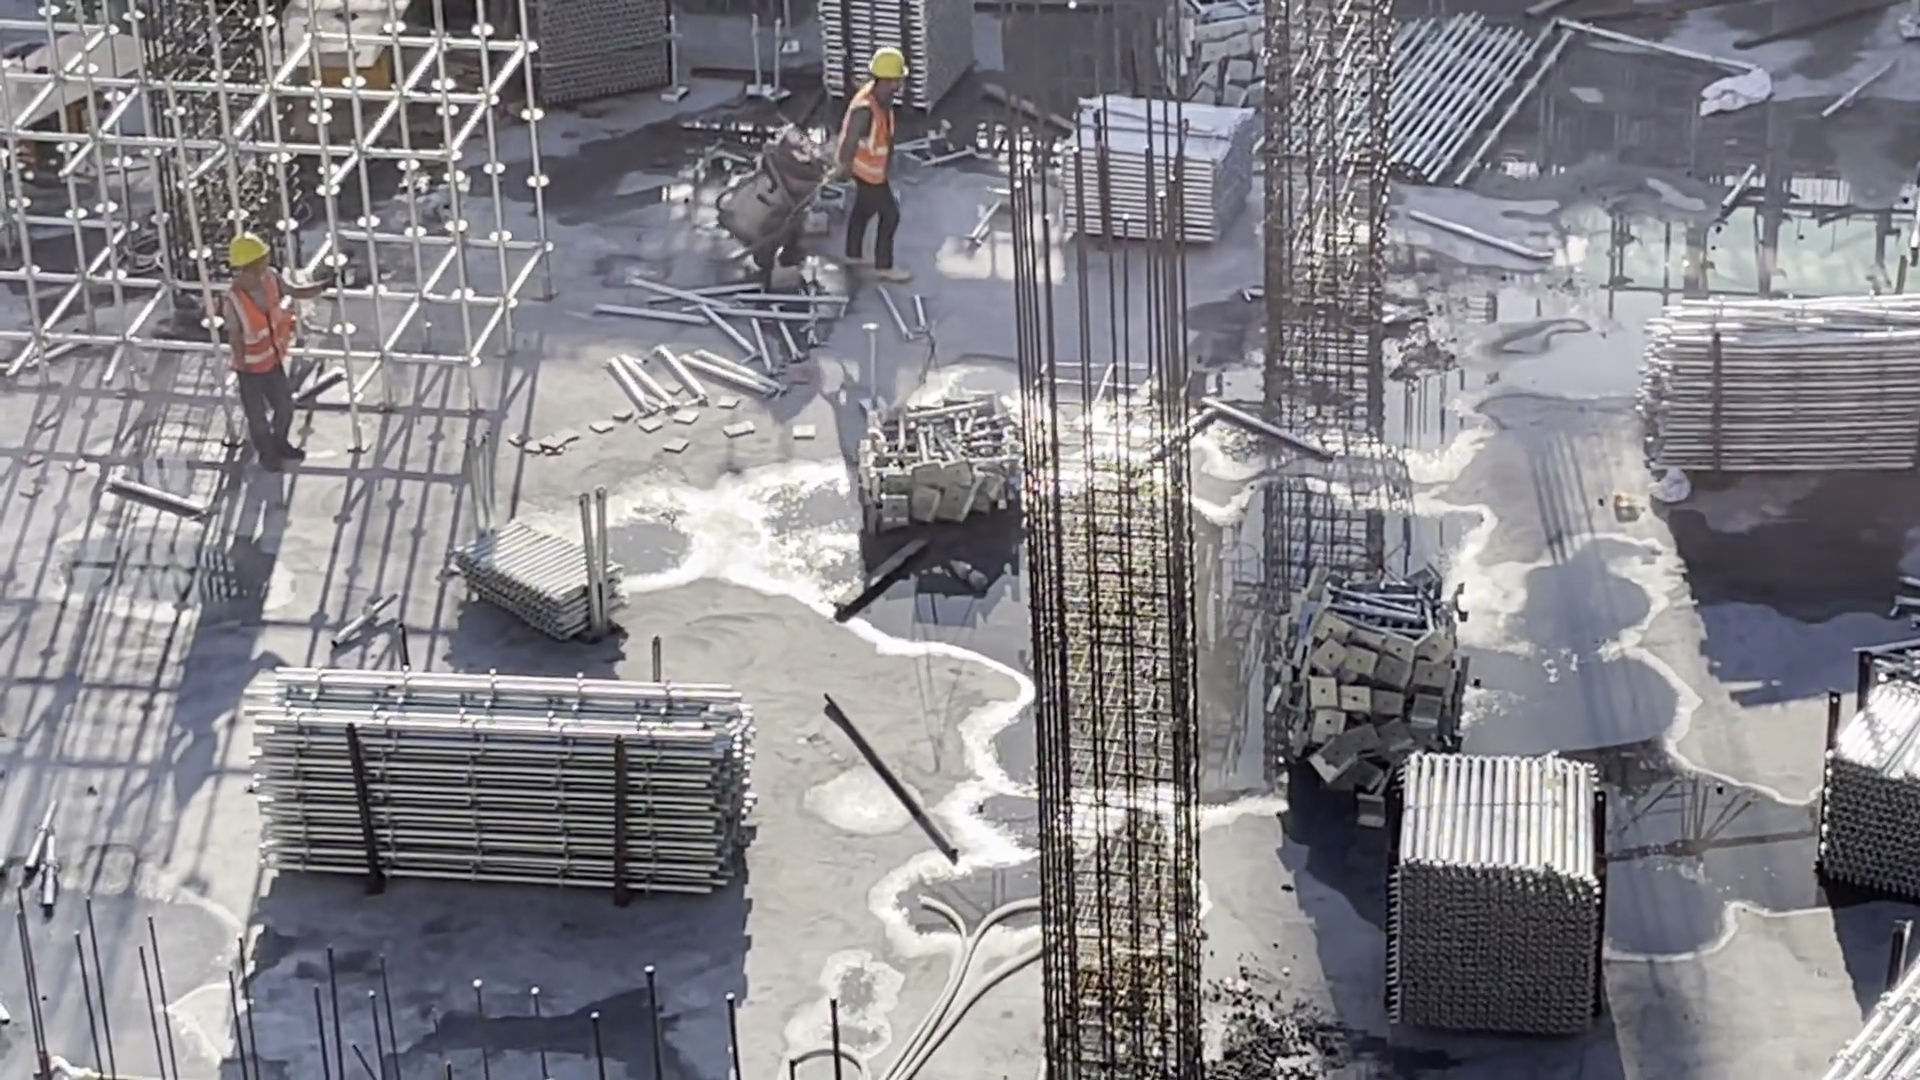cutter: (1, 19, 199, 171), (251, 8, 436, 141)
helmet: (863, 46, 914, 76), (229, 228, 264, 269)
person: (832, 46, 925, 274), (215, 239, 314, 450)
scaffold: (239, 660, 759, 904), (1394, 745, 1607, 1036), (1621, 268, 1910, 473), (1266, 565, 1458, 792), (1349, 23, 1604, 184), (1059, 90, 1245, 268), (1810, 660, 1920, 903), (859, 397, 1042, 528), (798, 1, 997, 117), (466, 507, 621, 649), (521, 1, 686, 126), (1176, 1, 1304, 109)
vest: (225, 277, 300, 367), (846, 88, 898, 187)
